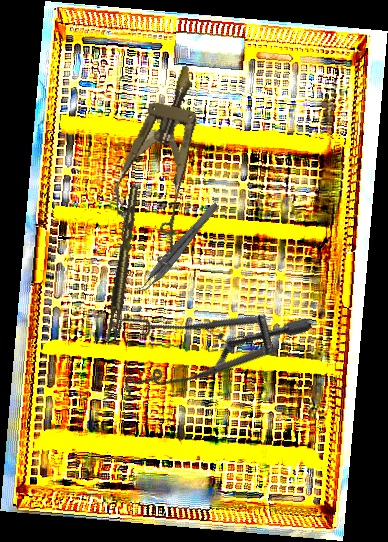Speculum: (85, 224, 316, 442), (98, 56, 224, 268)
Tissue Forceps: (134, 197, 221, 298), (101, 186, 146, 343)
